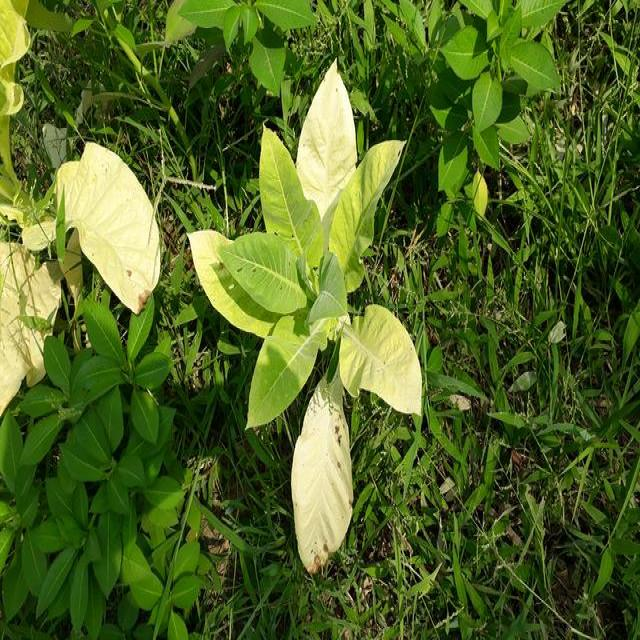crop: (204, 69, 395, 552), (0, 169, 153, 314), (0, 1, 34, 189)
